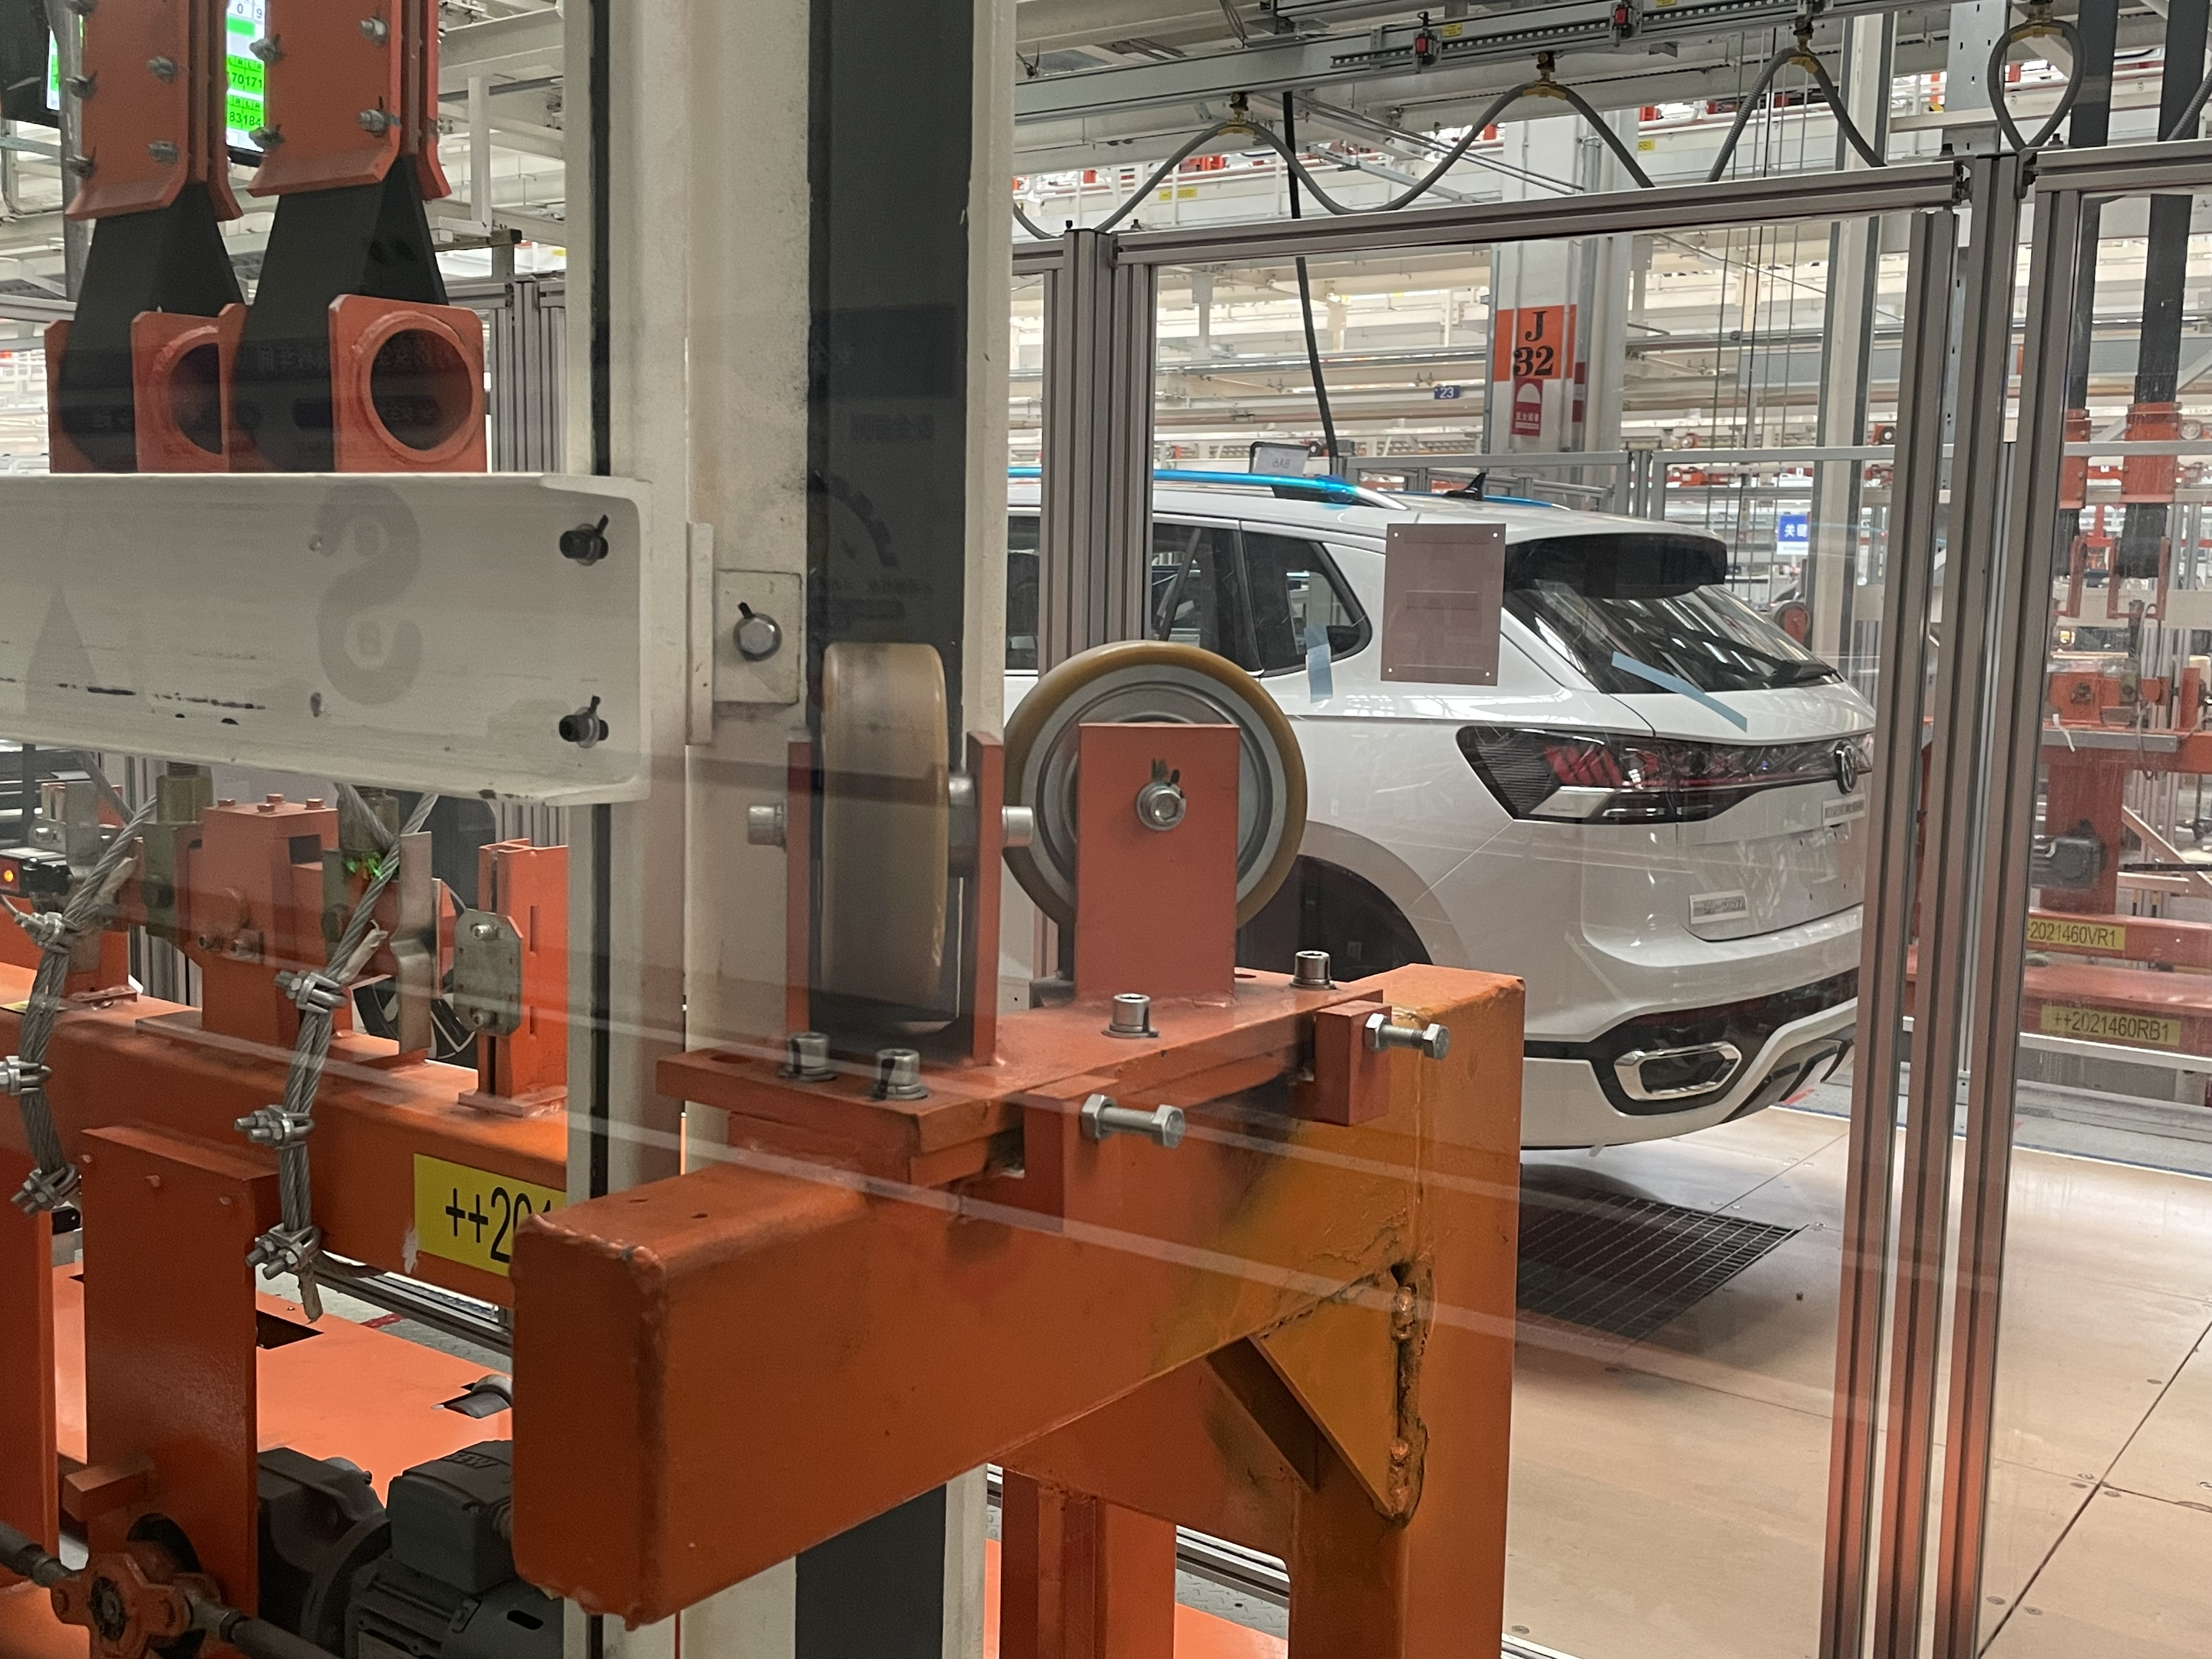good_wheel: (1001, 666, 1318, 941), (787, 633, 968, 1039)
